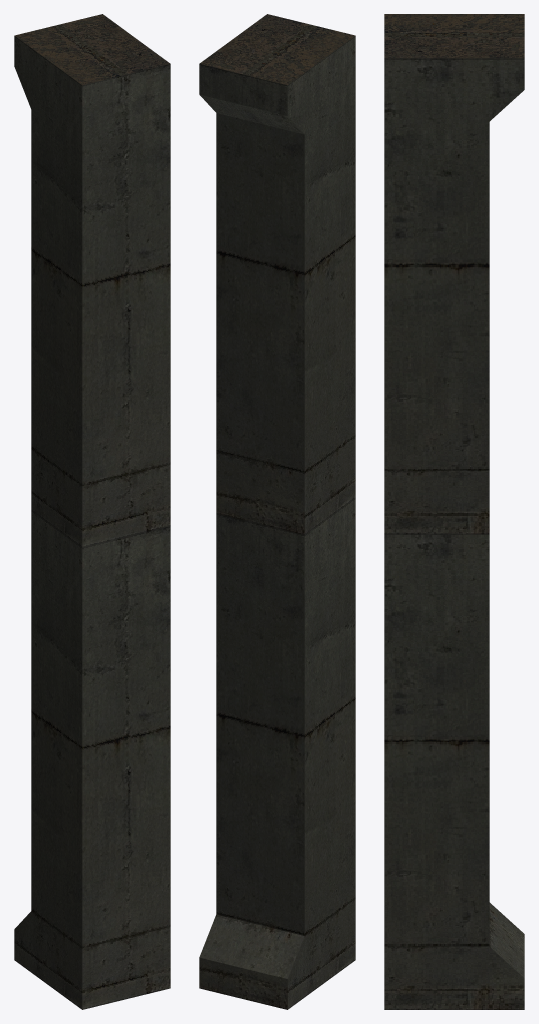
The model's file is pillar_rg_9.glb.
3 views of the same model, side by side, from view 1: azimuth 30°, elevation 25°; view 2: azimuth 150°, elevation 25°; view 3: azimuth 270°, elevation 25° (orthographic). The views are drawn at different scales.
Parts seen in each view (by area): view 1: pillar_rg_9; view 2: pillar_rg_9; view 3: pillar_rg_9.
Boxes of the visible parts, <box> form: pillar_rg_9: <box>14,14,170,1009</box>; pillar_rg_9: <box>199,14,355,1009</box>; pillar_rg_9: <box>384,14,524,1009</box>.
Size of the model in its own units: 0.6 by 6 by 0.8.
Materials: 2 (2 with a texture image).
